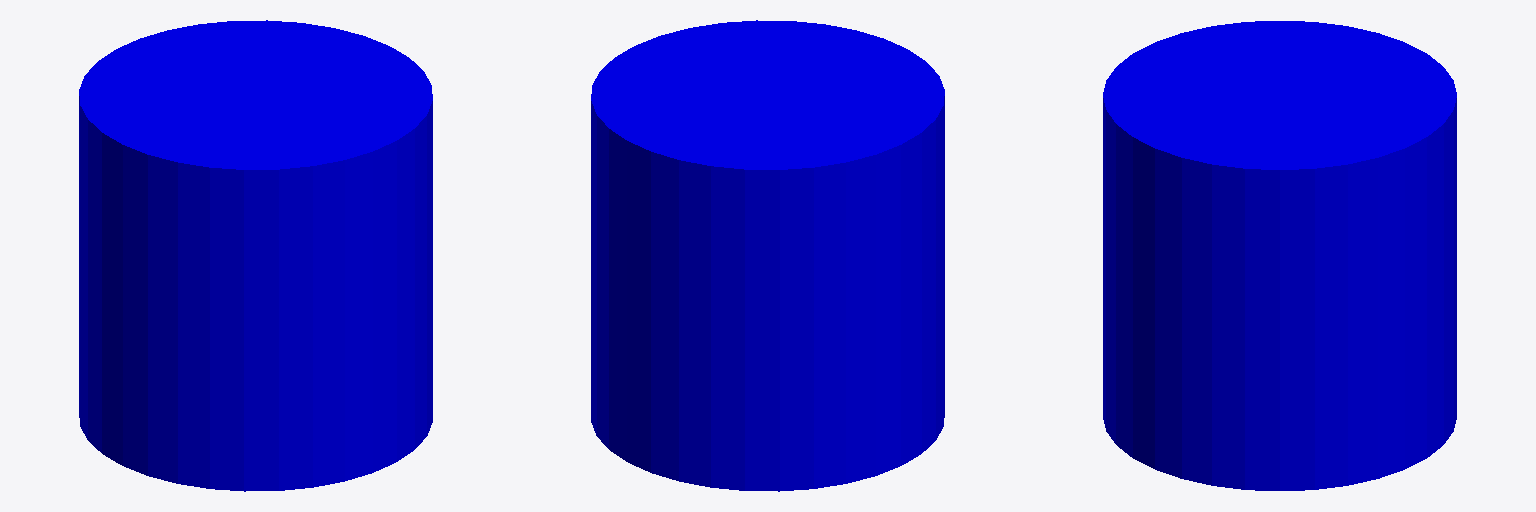
The robot description file, URDF, robot "object":
<?xml version="1.0"?>
<robot name="object">

  <material name="Mat"><color rgba="0 0.0 1.0 1.0"/></material>

  <link name="object">
    <visual>
      <origin xyz="0 0 0"/>
      <geometry>
        <cylinder length="0.03" radius="0.015"/>
      </geometry>
      <material name="Mat"/>
    </visual>
    <collision>
      <origin xyz="0 0 0"/>
      <geometry>
        <cylinder length="0.03" radius="0.015"/>
      </geometry>
    </collision>
     <inertial>
      <mass value="0.05"/>
      <inertia ixx="0.05" ixy="0.0" ixz="0.0" iyy="0.05" iyz="0.0" izz="0.05"/>
    </inertial>
  </link>
</robot>

--- What the picture shows (computed from the rendered views, not written in the file) ---
3 views of the same robot in one strip: view 1: azimuth 30°, elevation 25°; view 2: azimuth 150°, elevation 25°; view 3: azimuth 270°, elevation 25° (orthographic).
Robot: object — 1 links, 0 joints (none); root link object; default pose: all joints at 0.
Visible links, largest first — view 1: object; view 2: object; view 3: object.
Link boxes in pixels (box(x1,y1,x2,y2)): object: box(79, 20, 432, 491); object: box(591, 20, 944, 491); object: box(1103, 21, 1456, 490).
Size in the robot's own frame: 0.03 by 0.03 by 0.03 metres.
Geometry: primitives only (box / cylinder / sphere), no mesh files.